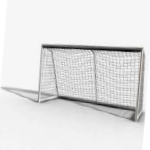goals: (36, 42, 144, 121)
